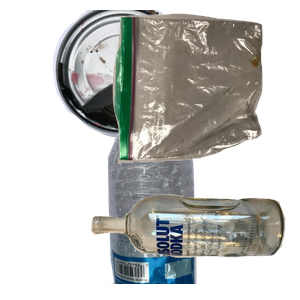glass: (88, 192, 300, 300)
metal: (50, 10, 262, 140)
plastic: (96, 120, 285, 300)
trash: (110, 11, 300, 167)
